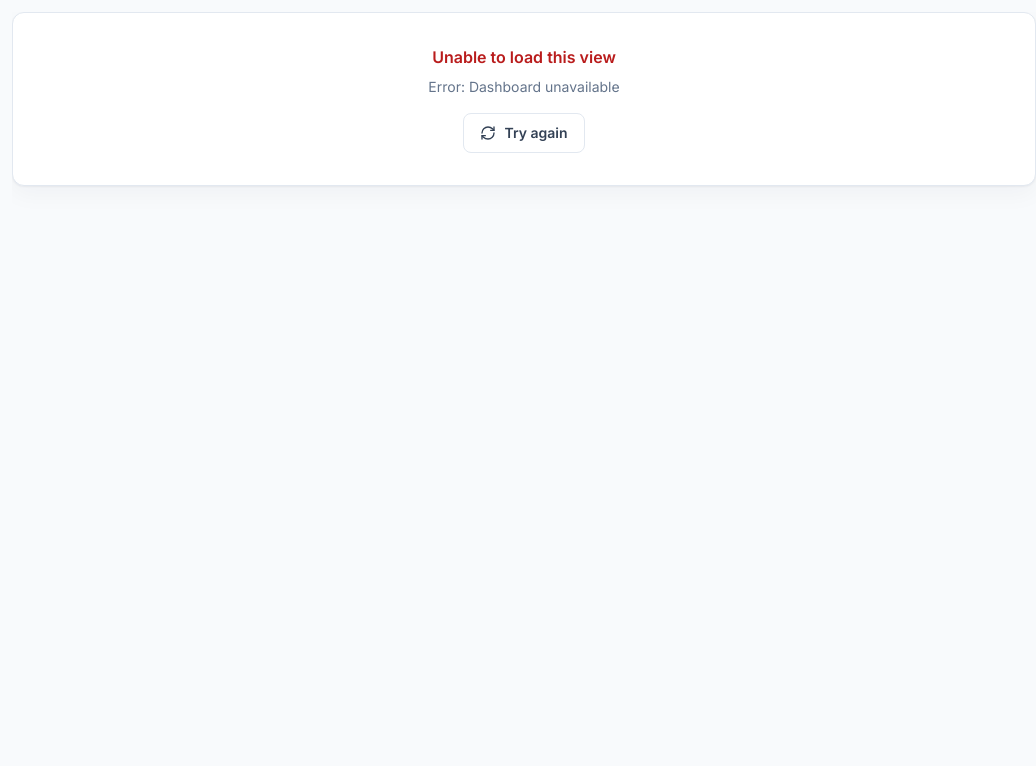
Test: clinical dashboard › lets the clinician retry after a dashboard request fails
Expected: the text "Unable to load this view" is shown, x1=432 y1=47 x2=616 y2=67
Expected: the text "Error: Dashboard unavailable" is shown, x1=428 y1=78 x2=620 y2=95
Step 1. Click the button "Try again" → {"x": 524, "y": 133}, box x1=464 y1=113 x2=585 y2=153
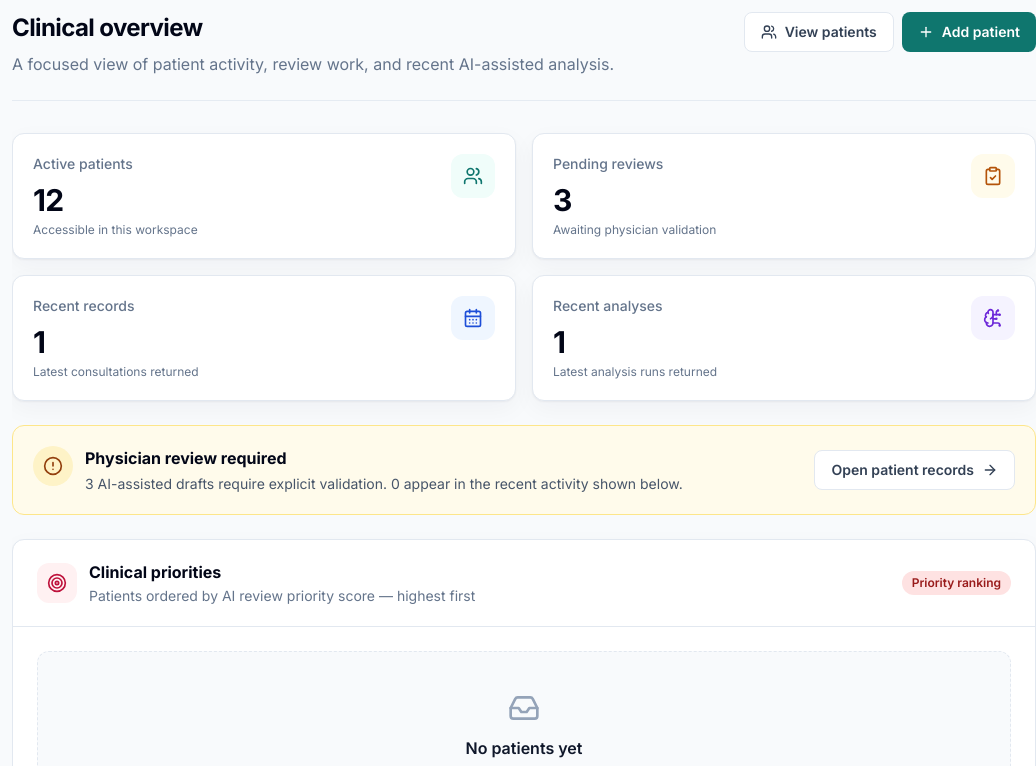
Expected: the heading "Clinical overview" is shown, x1=12 y1=13 x2=202 y2=42
